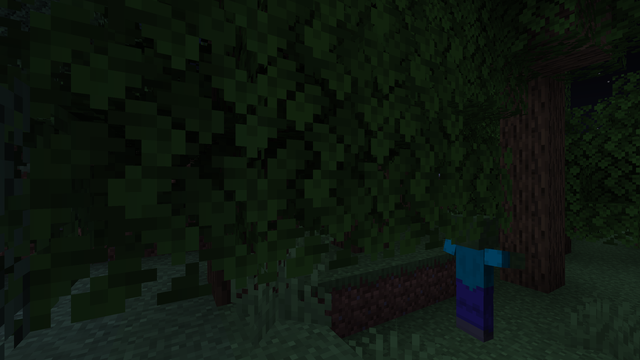zombies: (447, 241, 502, 347)
